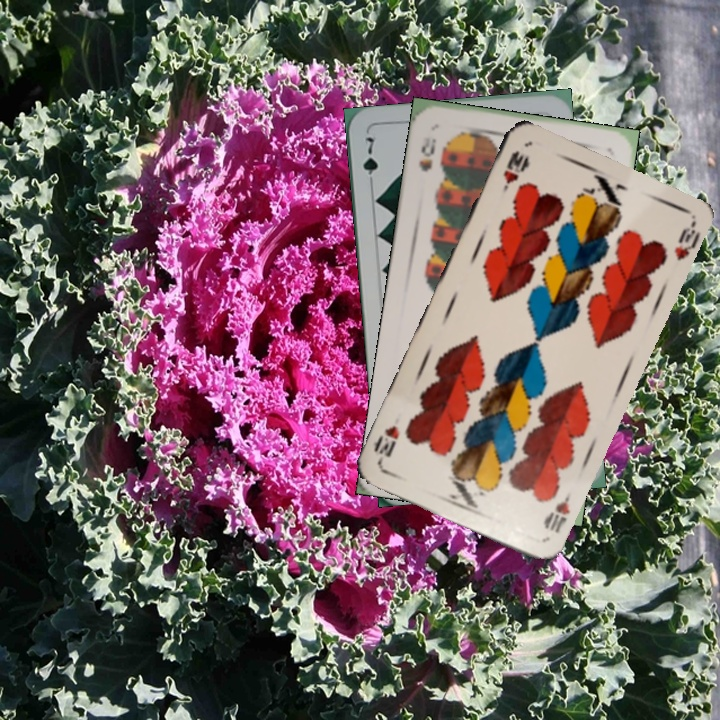G7: (358, 133, 381, 190)
H10: (539, 487, 574, 536), (498, 146, 529, 195)
S8: (415, 133, 439, 175)
